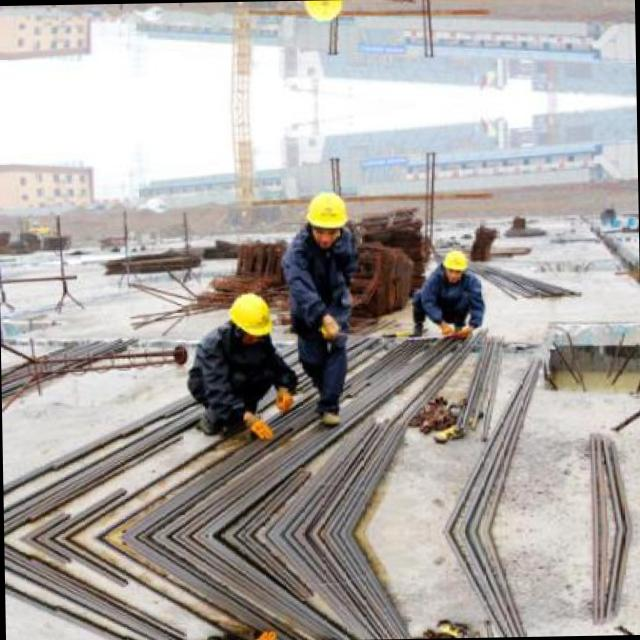helmet: (224, 287, 274, 346), (302, 186, 349, 247), (299, 0, 347, 26), (438, 245, 468, 282)
